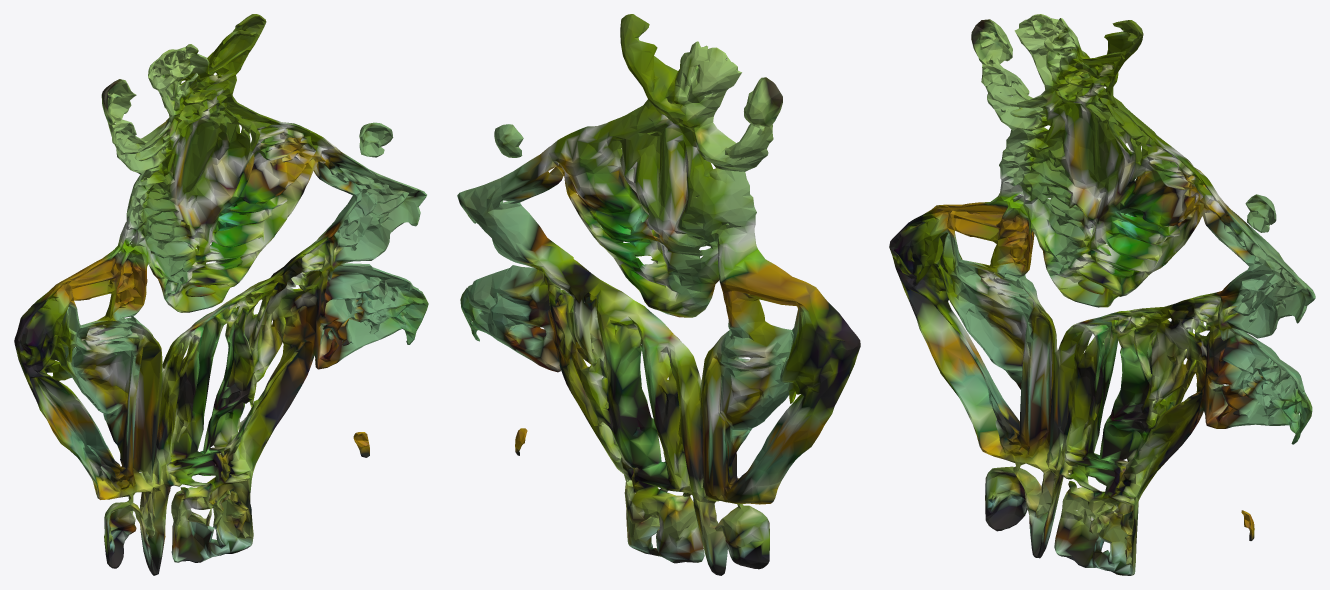
Rendered from smallDokkaebi.glb.
3 renders of one model, left to right at view 1: azimuth 30°, elevation 25°; view 2: azimuth 150°, elevation 25°; view 3: azimuth 330°, elevation 25°, orthographic. The views are drawn at different scales.
Visible parts, largest first — view 1: world; view 2: world; view 3: world.
Part boxes in pixels (x1,y1,x2,y2): world: (14, 14, 428, 575); world: (457, 14, 860, 575); world: (889, 14, 1315, 575).
Size of the model in its own units: 0.7911 by 1 by 0.0912.
